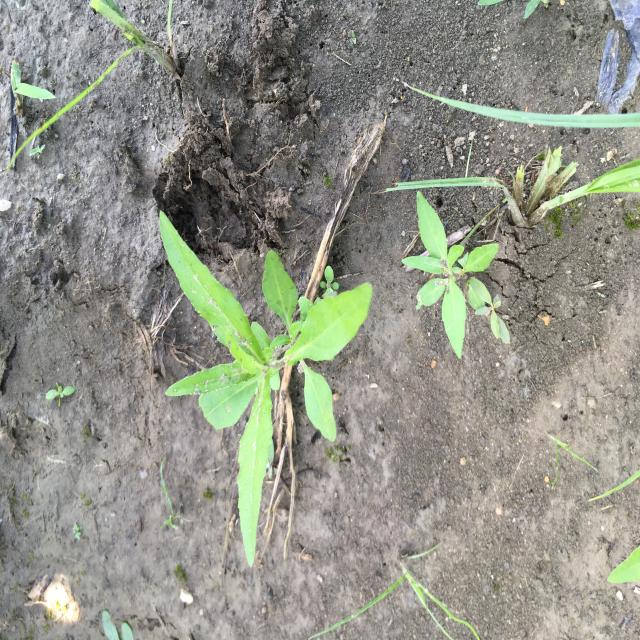Eclipta: (156, 207, 376, 572), (399, 189, 503, 360)
